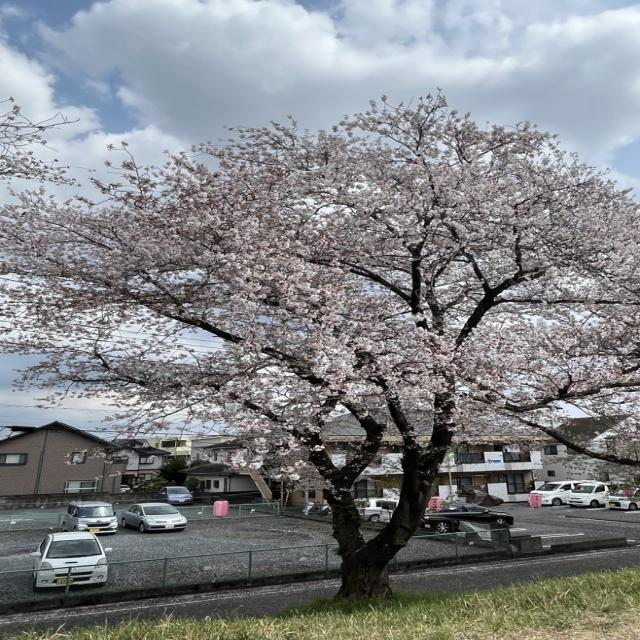sakura: (0, 86, 640, 604)
